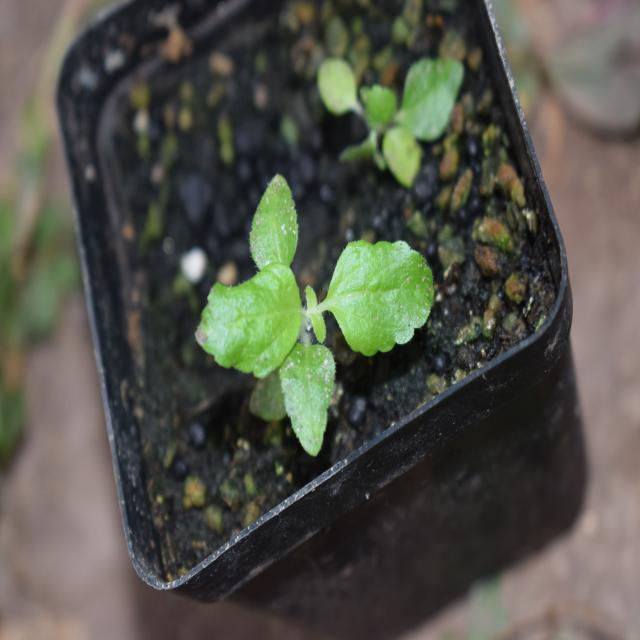billygoat_weed: (180, 185, 433, 431)
